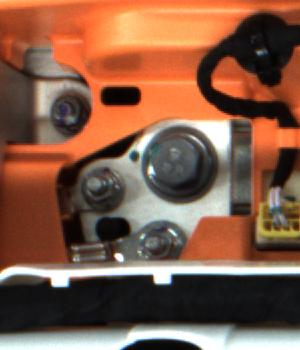nut_b: (137, 125, 222, 210)
